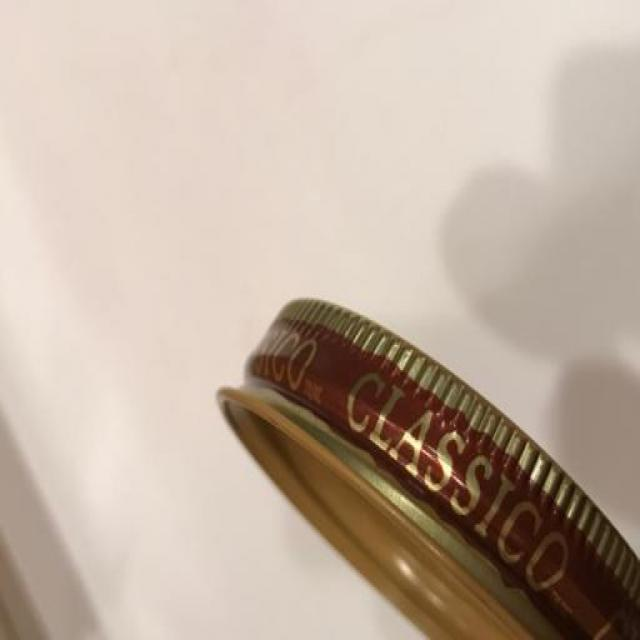metel: (212, 249, 640, 640)
